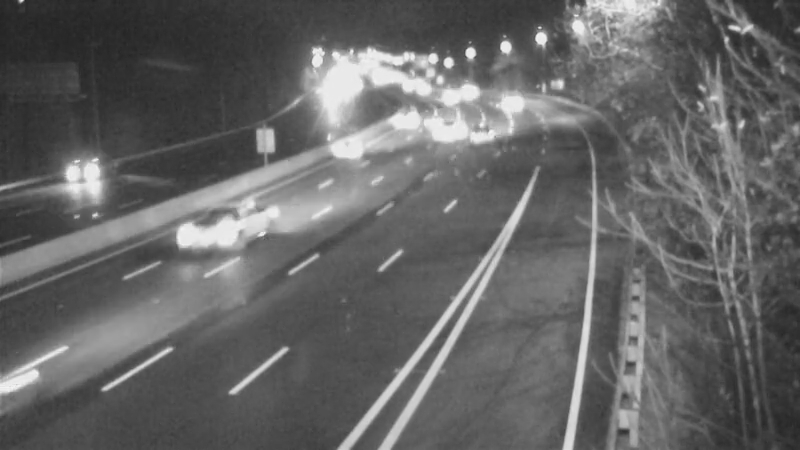vehicle: (1, 334, 90, 444), (152, 195, 232, 275), (43, 134, 123, 214), (479, 77, 529, 127), (408, 99, 458, 149), (378, 94, 428, 144), (458, 109, 508, 159), (427, 103, 477, 153), (319, 121, 369, 171)
